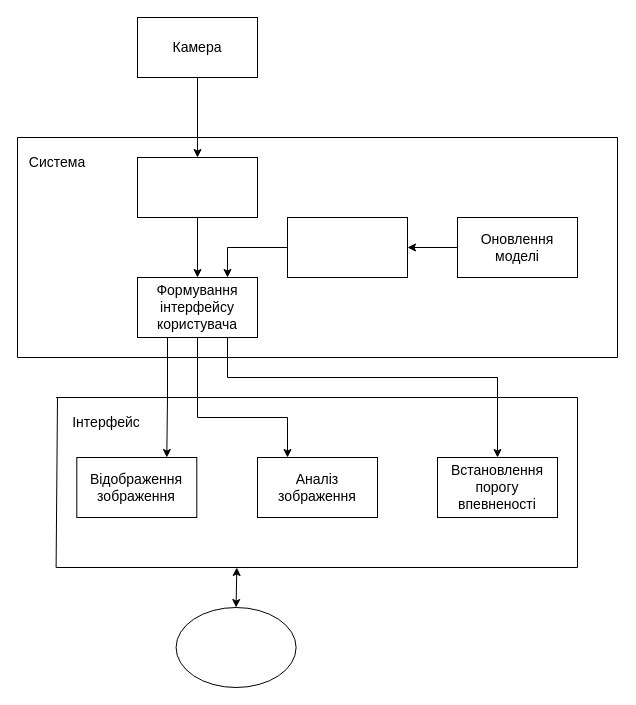
This 636x705 diagram has some shape labels left out. The centre of each missing label's shape, as x and y in pixels:
"Оператор" belongs at point 235,647.
"Розпізнавання" belongs at point 347,247.
"Формування фотокартки" belongs at point 197,187.
